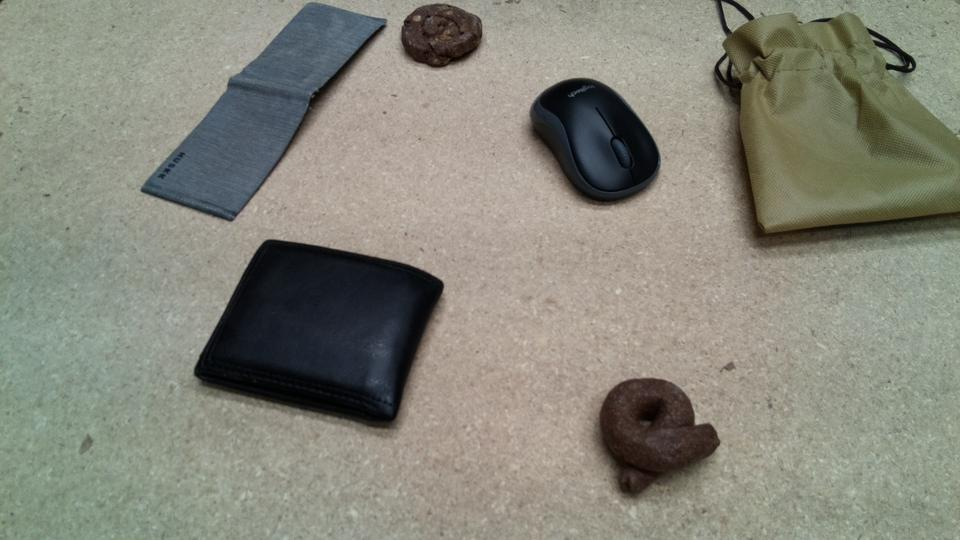poop: (595, 373, 724, 500), (399, 2, 486, 73)
